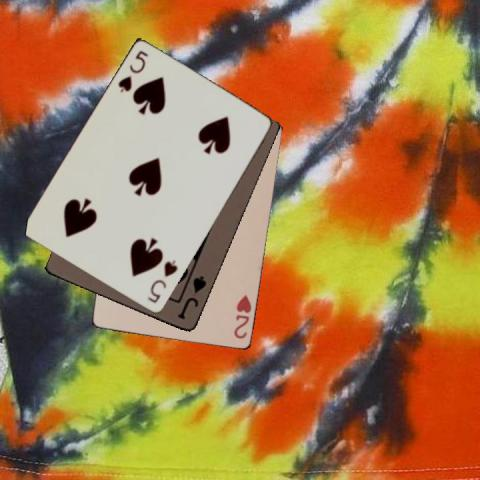2h: (232, 292, 254, 341)
5s: (145, 257, 179, 305), (115, 48, 149, 95)
Js: (175, 273, 208, 321)
